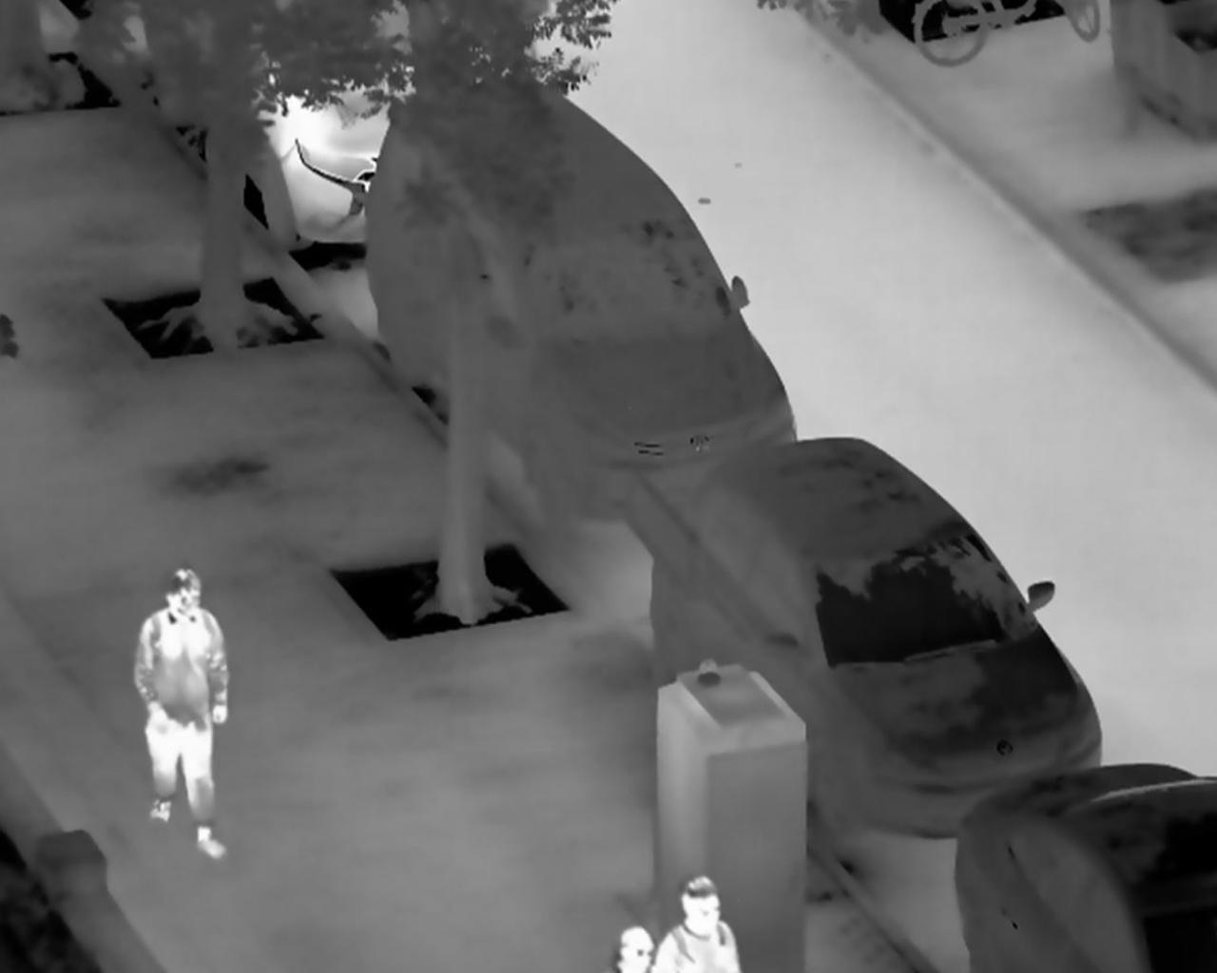person: (133, 566, 228, 860), (648, 864, 744, 973)
